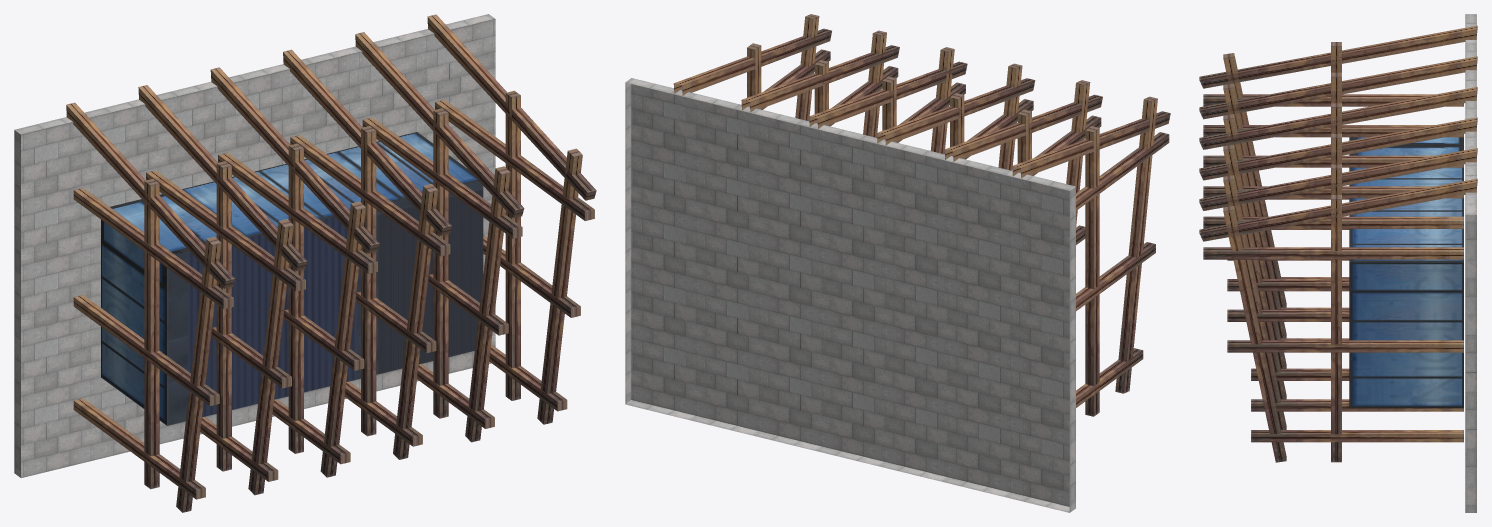
The model's file is YDH_04.gltf.
3 views of the same model, side by side, from view 1: azimuth 30°, elevation 25°; view 2: azimuth 150°, elevation 25°; view 3: azimuth 270°, elevation 25° (orthographic). The views are drawn at different scales.
Size of the model in its own units: 22.4 by 16.04 by 13.1.
4 materials, 4 textured.
